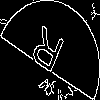R: (25, 25, 67, 83)
